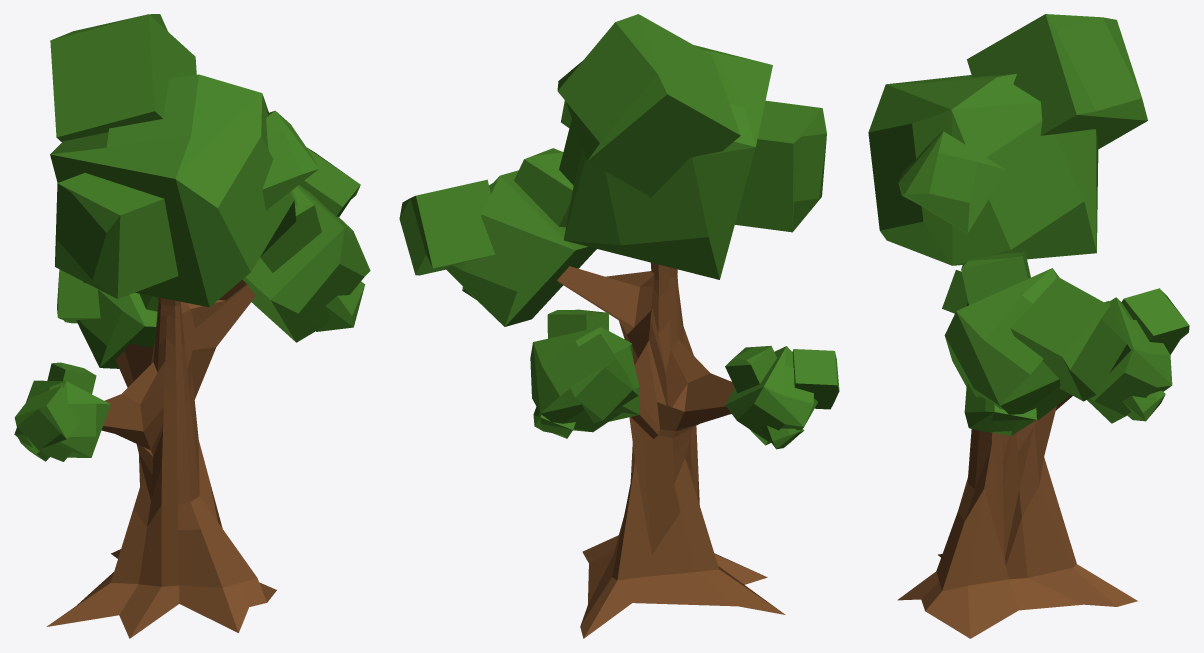
The model's file is Real Tree.fbx.
3 views of the same model, side by side, from view 1: azimuth 30°, elevation 25°; view 2: azimuth 150°, elevation 25°; view 3: azimuth 270°, elevation 25° (orthographic). The views are drawn at different scales.
Parts seen in each view (by area): view 1: Cube; view 2: Cube; view 3: Cube.
Part boxes in pixels (<box>): Cube: <box>14,14,370,638</box>; Cube: <box>399,14,839,638</box>; Cube: <box>868,14,1189,638</box>.
Bounding box in the file's own units: 3045 × 4353 × 2172.
